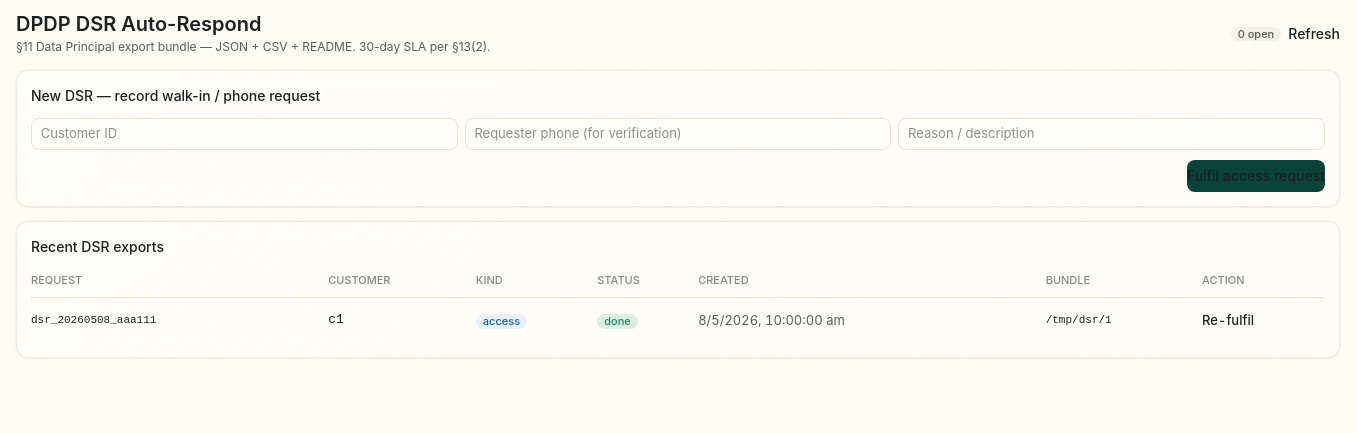
Scenario: DSRPanel › rejects fulfil with empty customerId
Expected: the field named "customer-id" is shown, [41,123,448,144]
Click the button with test id "fulfil-btn" at (1256, 176), box [1187,160,1325,192]
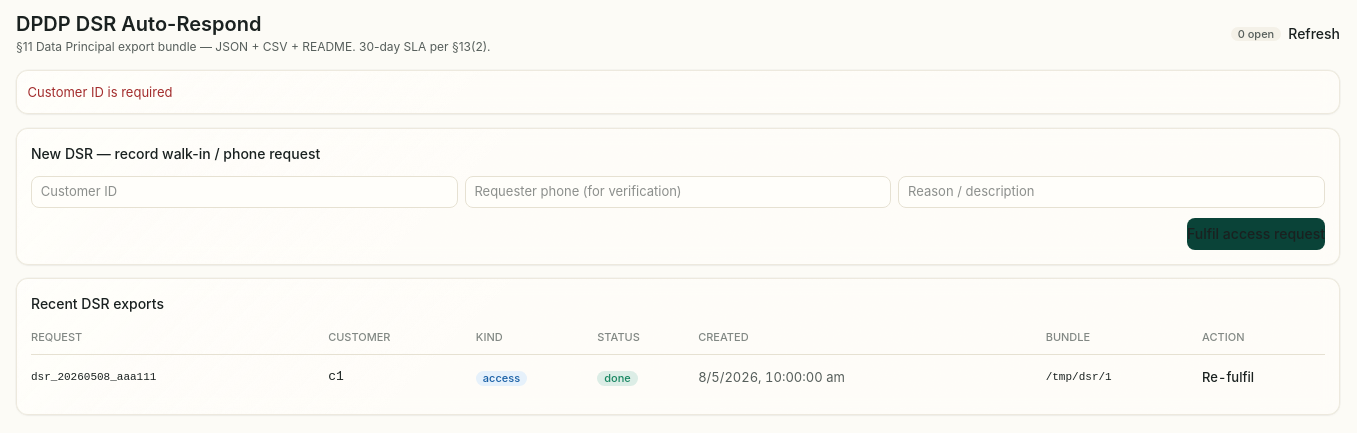
Expected: the message shows "Customer ID", [28,84,172,100]
